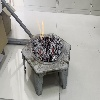fire: (37, 18, 44, 40)
